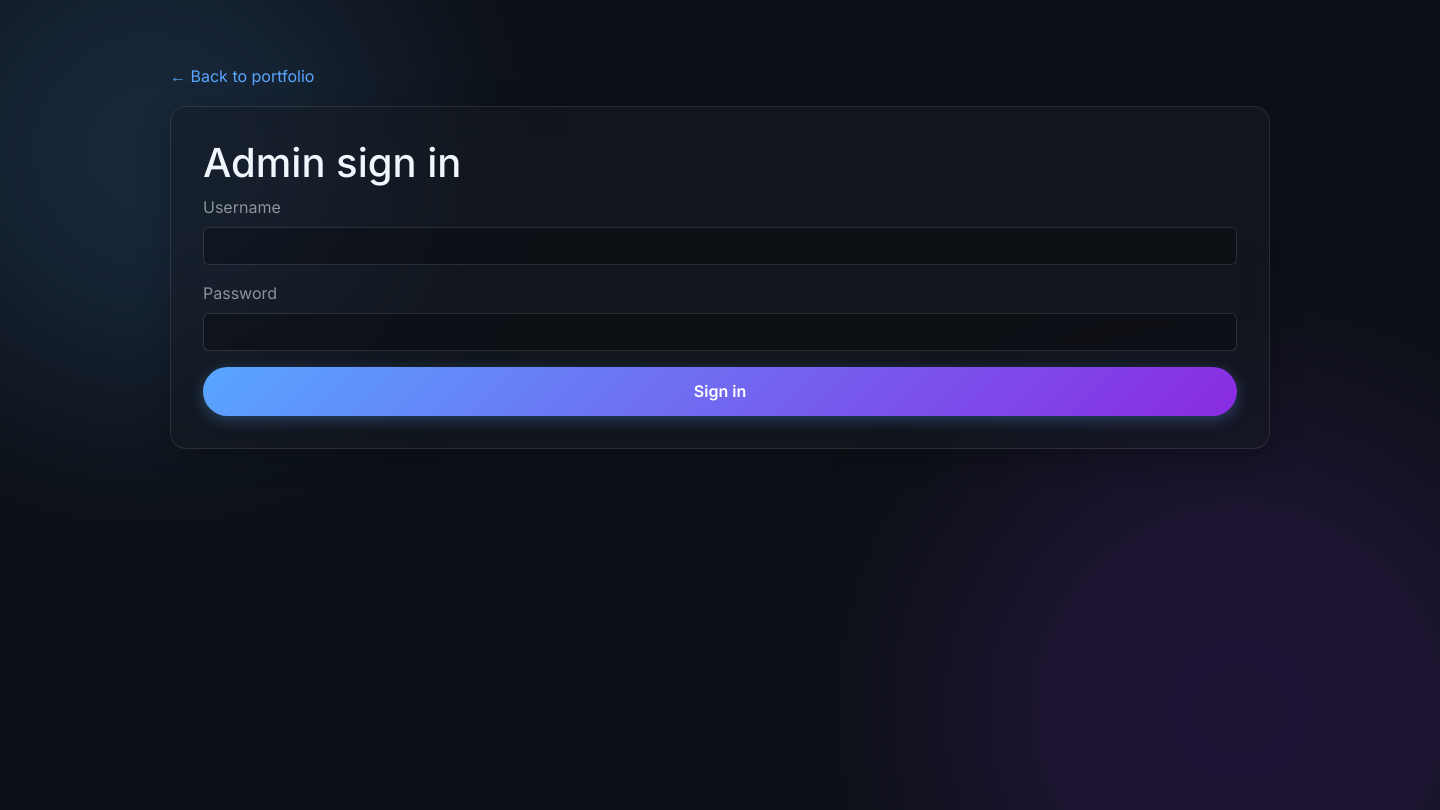
Scenario: admin login › shows an API error for wrong credentials and stays signed out
In the field labelled "Username": (720, 246) [203,227,1237,265], type "admin"
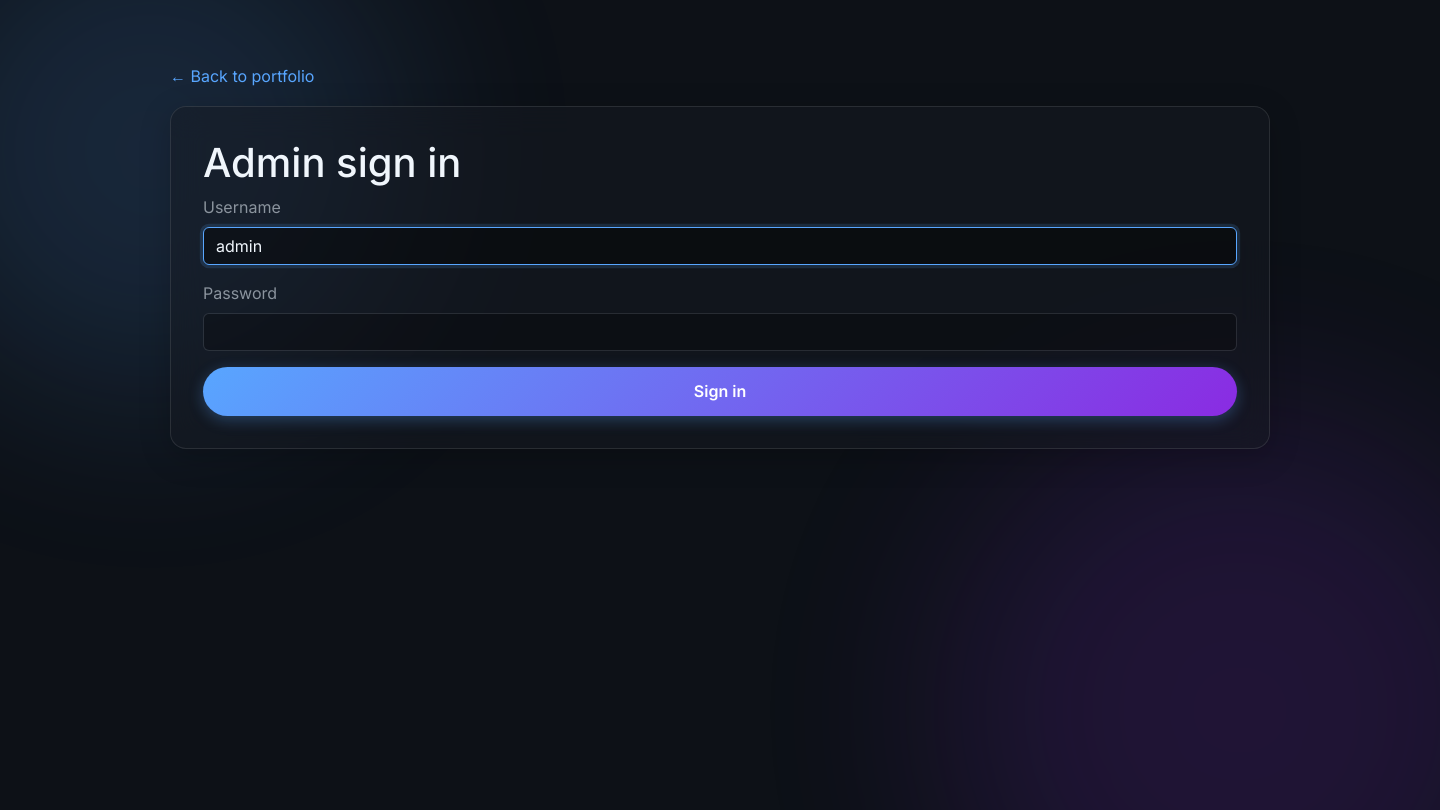
In the password field labelled "Password": (720, 332) [203,313,1237,351], type "nope"
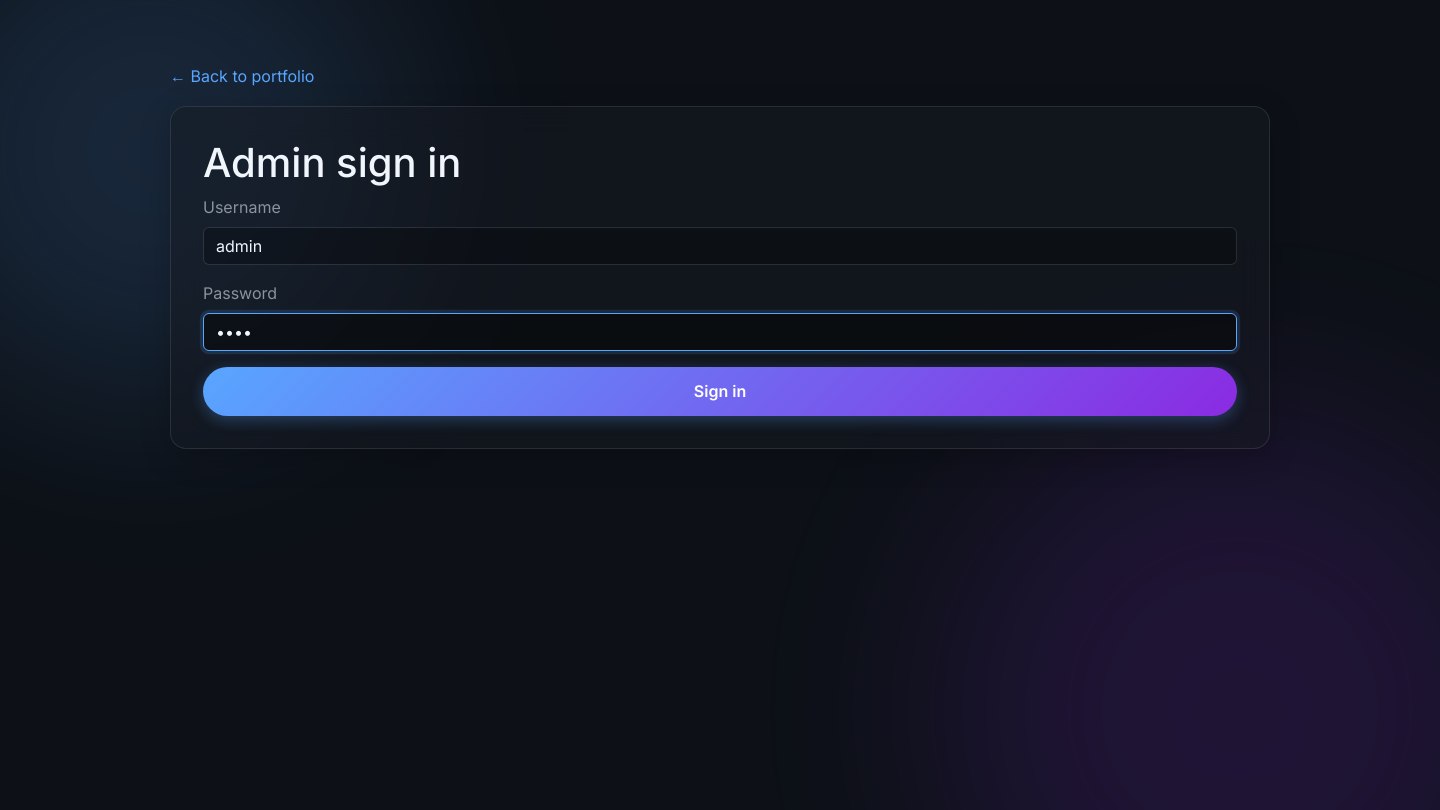
Click the button "Sign in": (720, 391) [203,367,1237,416]
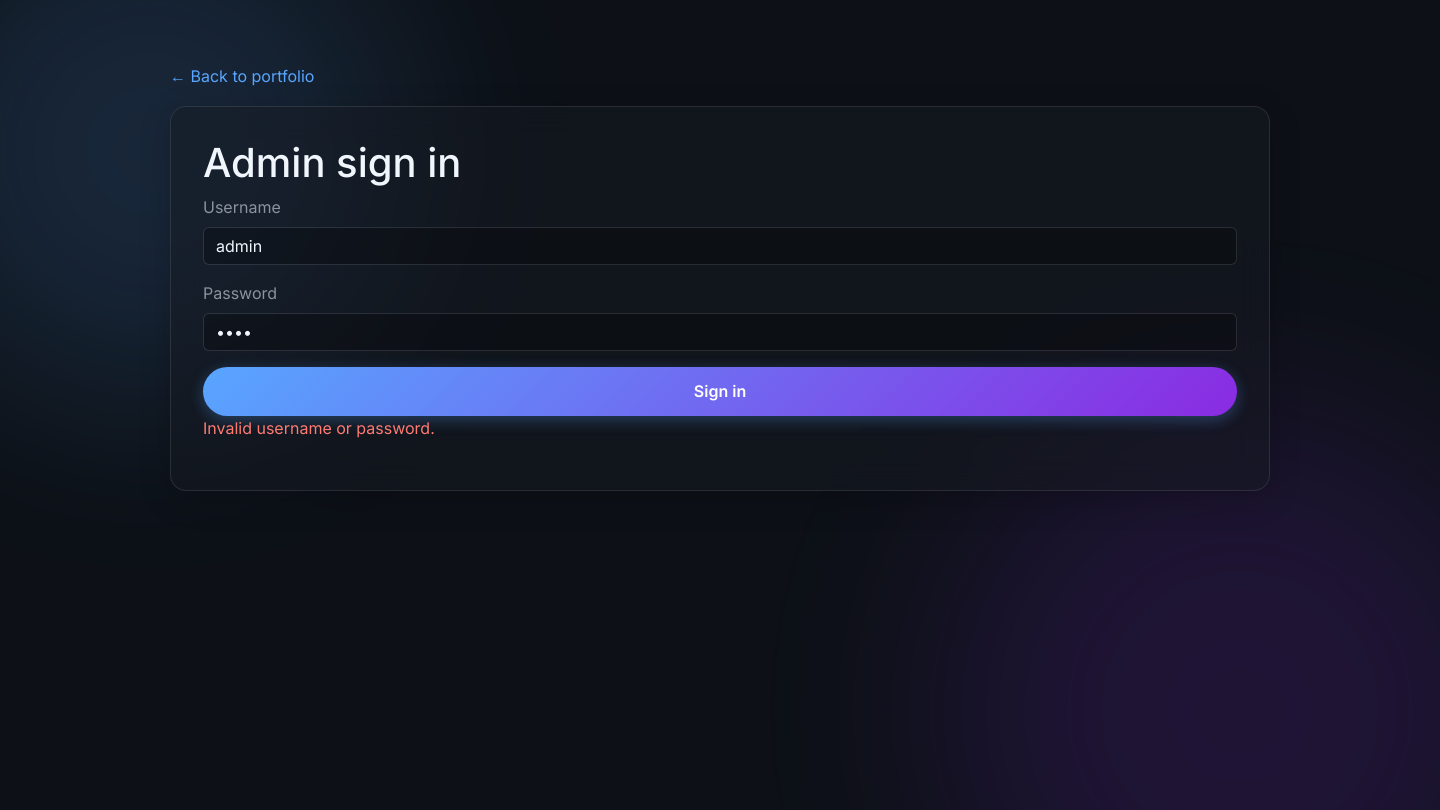
Check: the message reads "Invalid username or password.", box [203,418,435,438]
